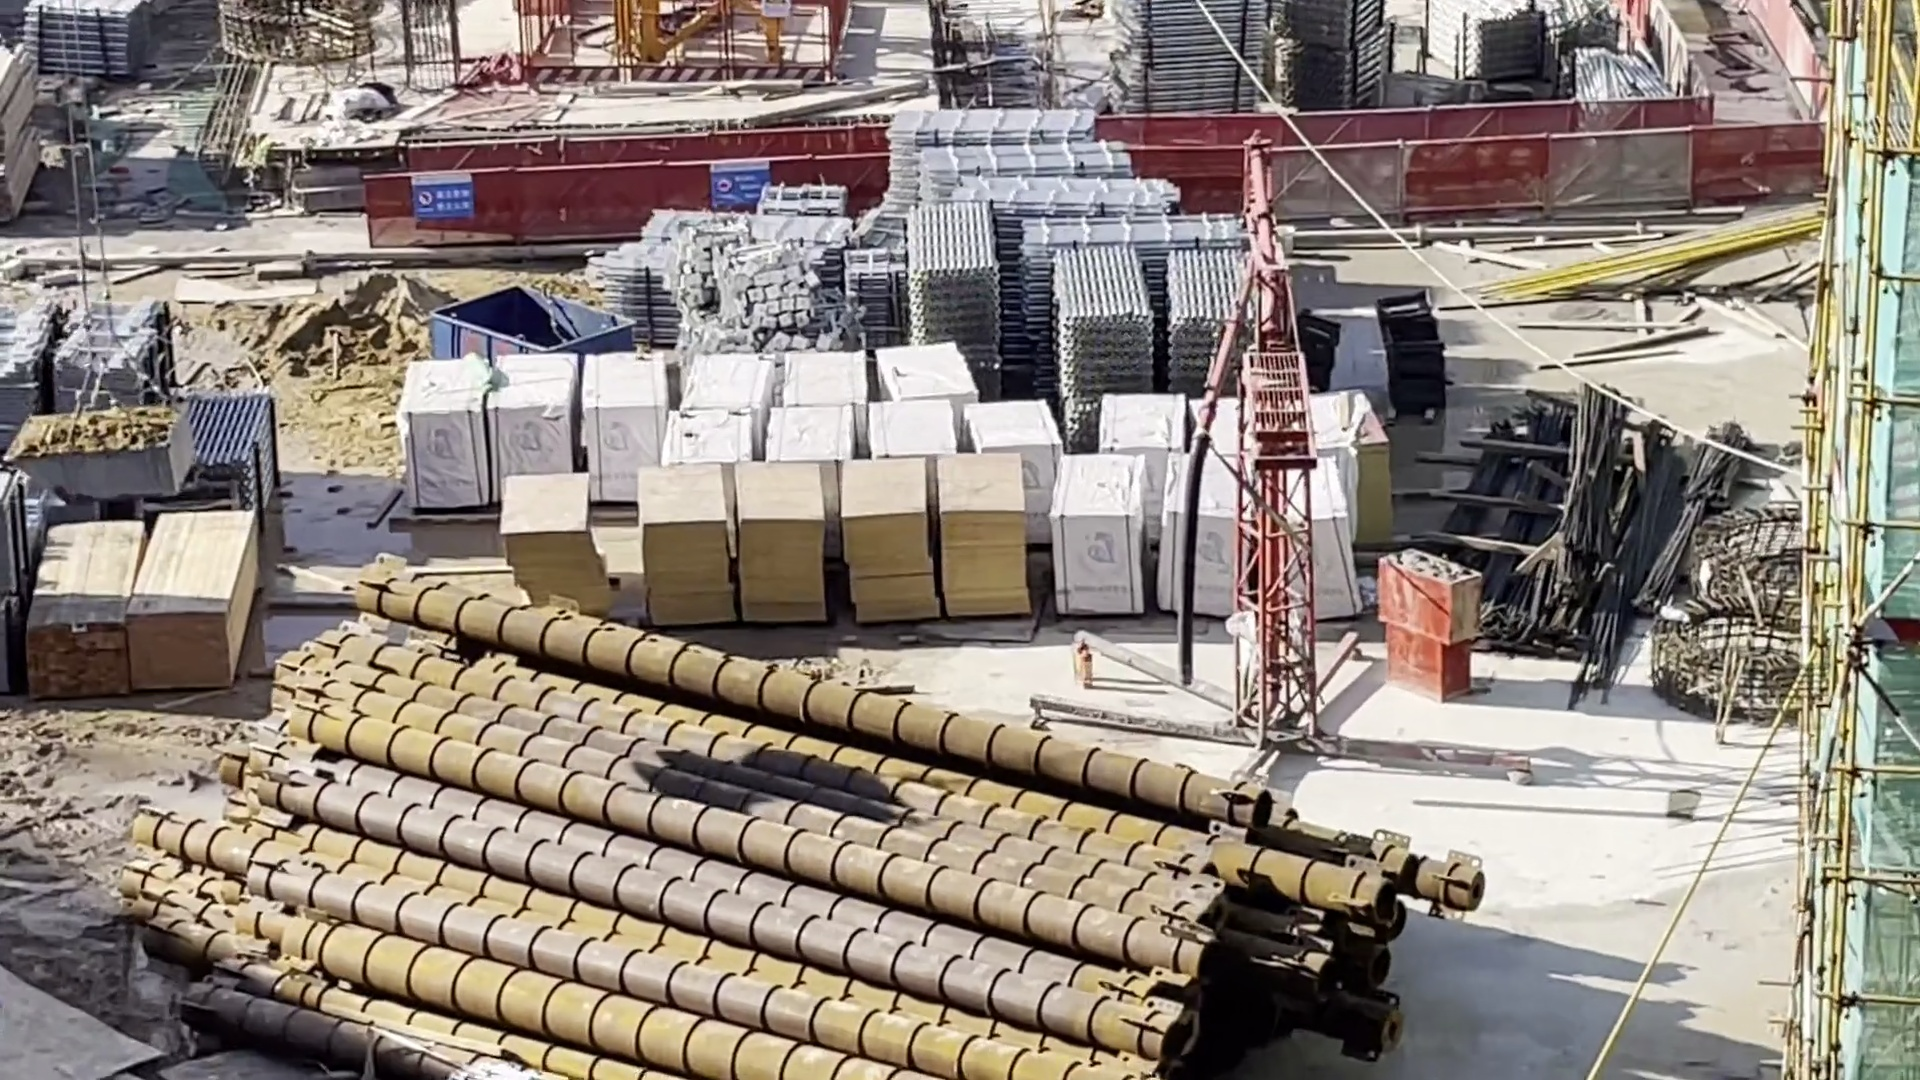board: (140, 529, 243, 704), (841, 472, 939, 632), (947, 465, 1025, 644), (497, 477, 591, 615), (738, 456, 818, 603), (636, 468, 703, 636)
fence: (1147, 133, 1821, 225), (369, 165, 876, 249), (1156, 104, 1706, 138), (407, 128, 885, 160), (1760, 8, 1842, 117), (1642, 5, 1713, 109)
hopper: (32, 405, 195, 495), (427, 299, 630, 367)
rebar: (1575, 444, 1669, 682), (1452, 409, 1557, 611), (1640, 429, 1750, 611), (1395, 433, 1502, 589), (1536, 401, 1619, 578)
scaffold: (920, 224, 1036, 351), (182, 392, 278, 520), (930, 171, 1167, 216), (1131, 45, 1259, 111), (1056, 257, 1135, 355), (1420, 1, 1528, 65), (1160, 253, 1237, 339), (1127, 3, 1265, 49), (909, 107, 1104, 138), (1305, 45, 1408, 100), (931, 145, 1116, 173), (1021, 222, 1240, 244), (608, 272, 676, 340), (847, 260, 903, 335), (1299, 3, 1383, 51), (1064, 396, 1101, 440)
slogan: (405, 179, 473, 225), (709, 164, 765, 210)
wood: (32, 524, 132, 703)
